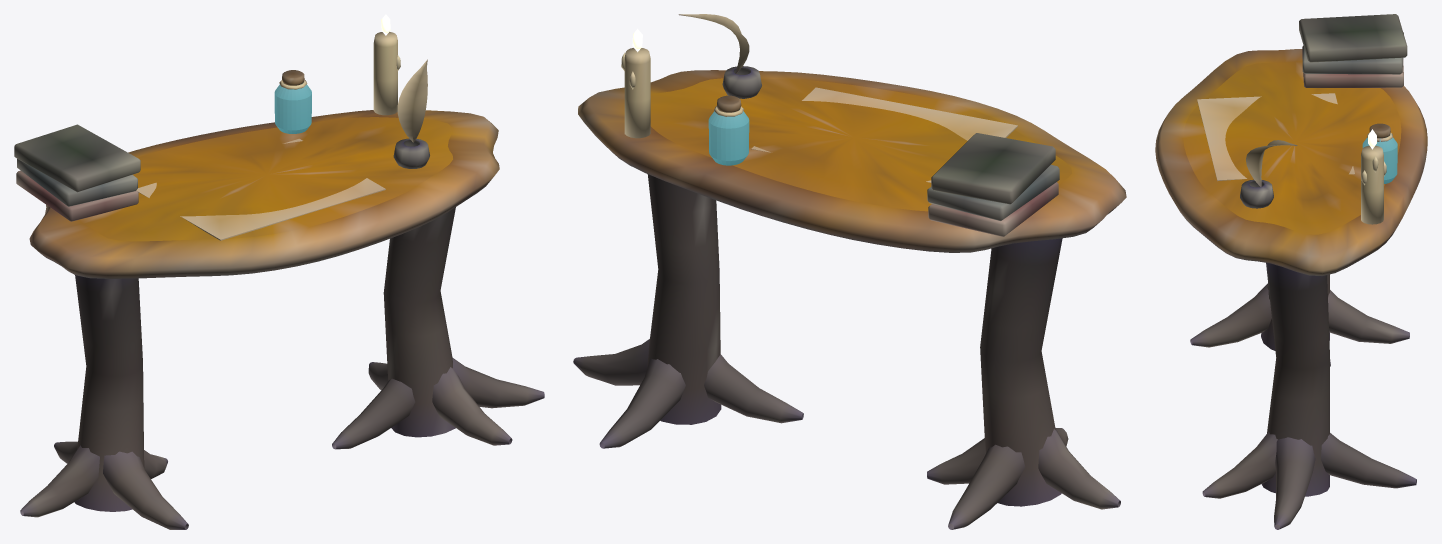
Rendered from kabuk_masa.glb.
The picture shows the model from 3 angles, left to right: view 1: azimuth 30°, elevation 25°; view 2: azimuth 150°, elevation 25°; view 3: azimuth 270°, elevation 25°; orthographic projection. The views are drawn at different scales.
Visible parts, largest first — view 1: kabuk_masa_LOD0; view 2: kabuk_masa_LOD0; view 3: kabuk_masa_LOD0.
Boxes of the visible parts, x1,y1,x2,y2 form: kabuk_masa_LOD0: [14, 14, 544, 529]; kabuk_masa_LOD0: [573, 14, 1126, 529]; kabuk_masa_LOD0: [1155, 14, 1427, 529].
Size of what is drawn, in the model's own units: 1.45 by 1.03 by 0.7078.
